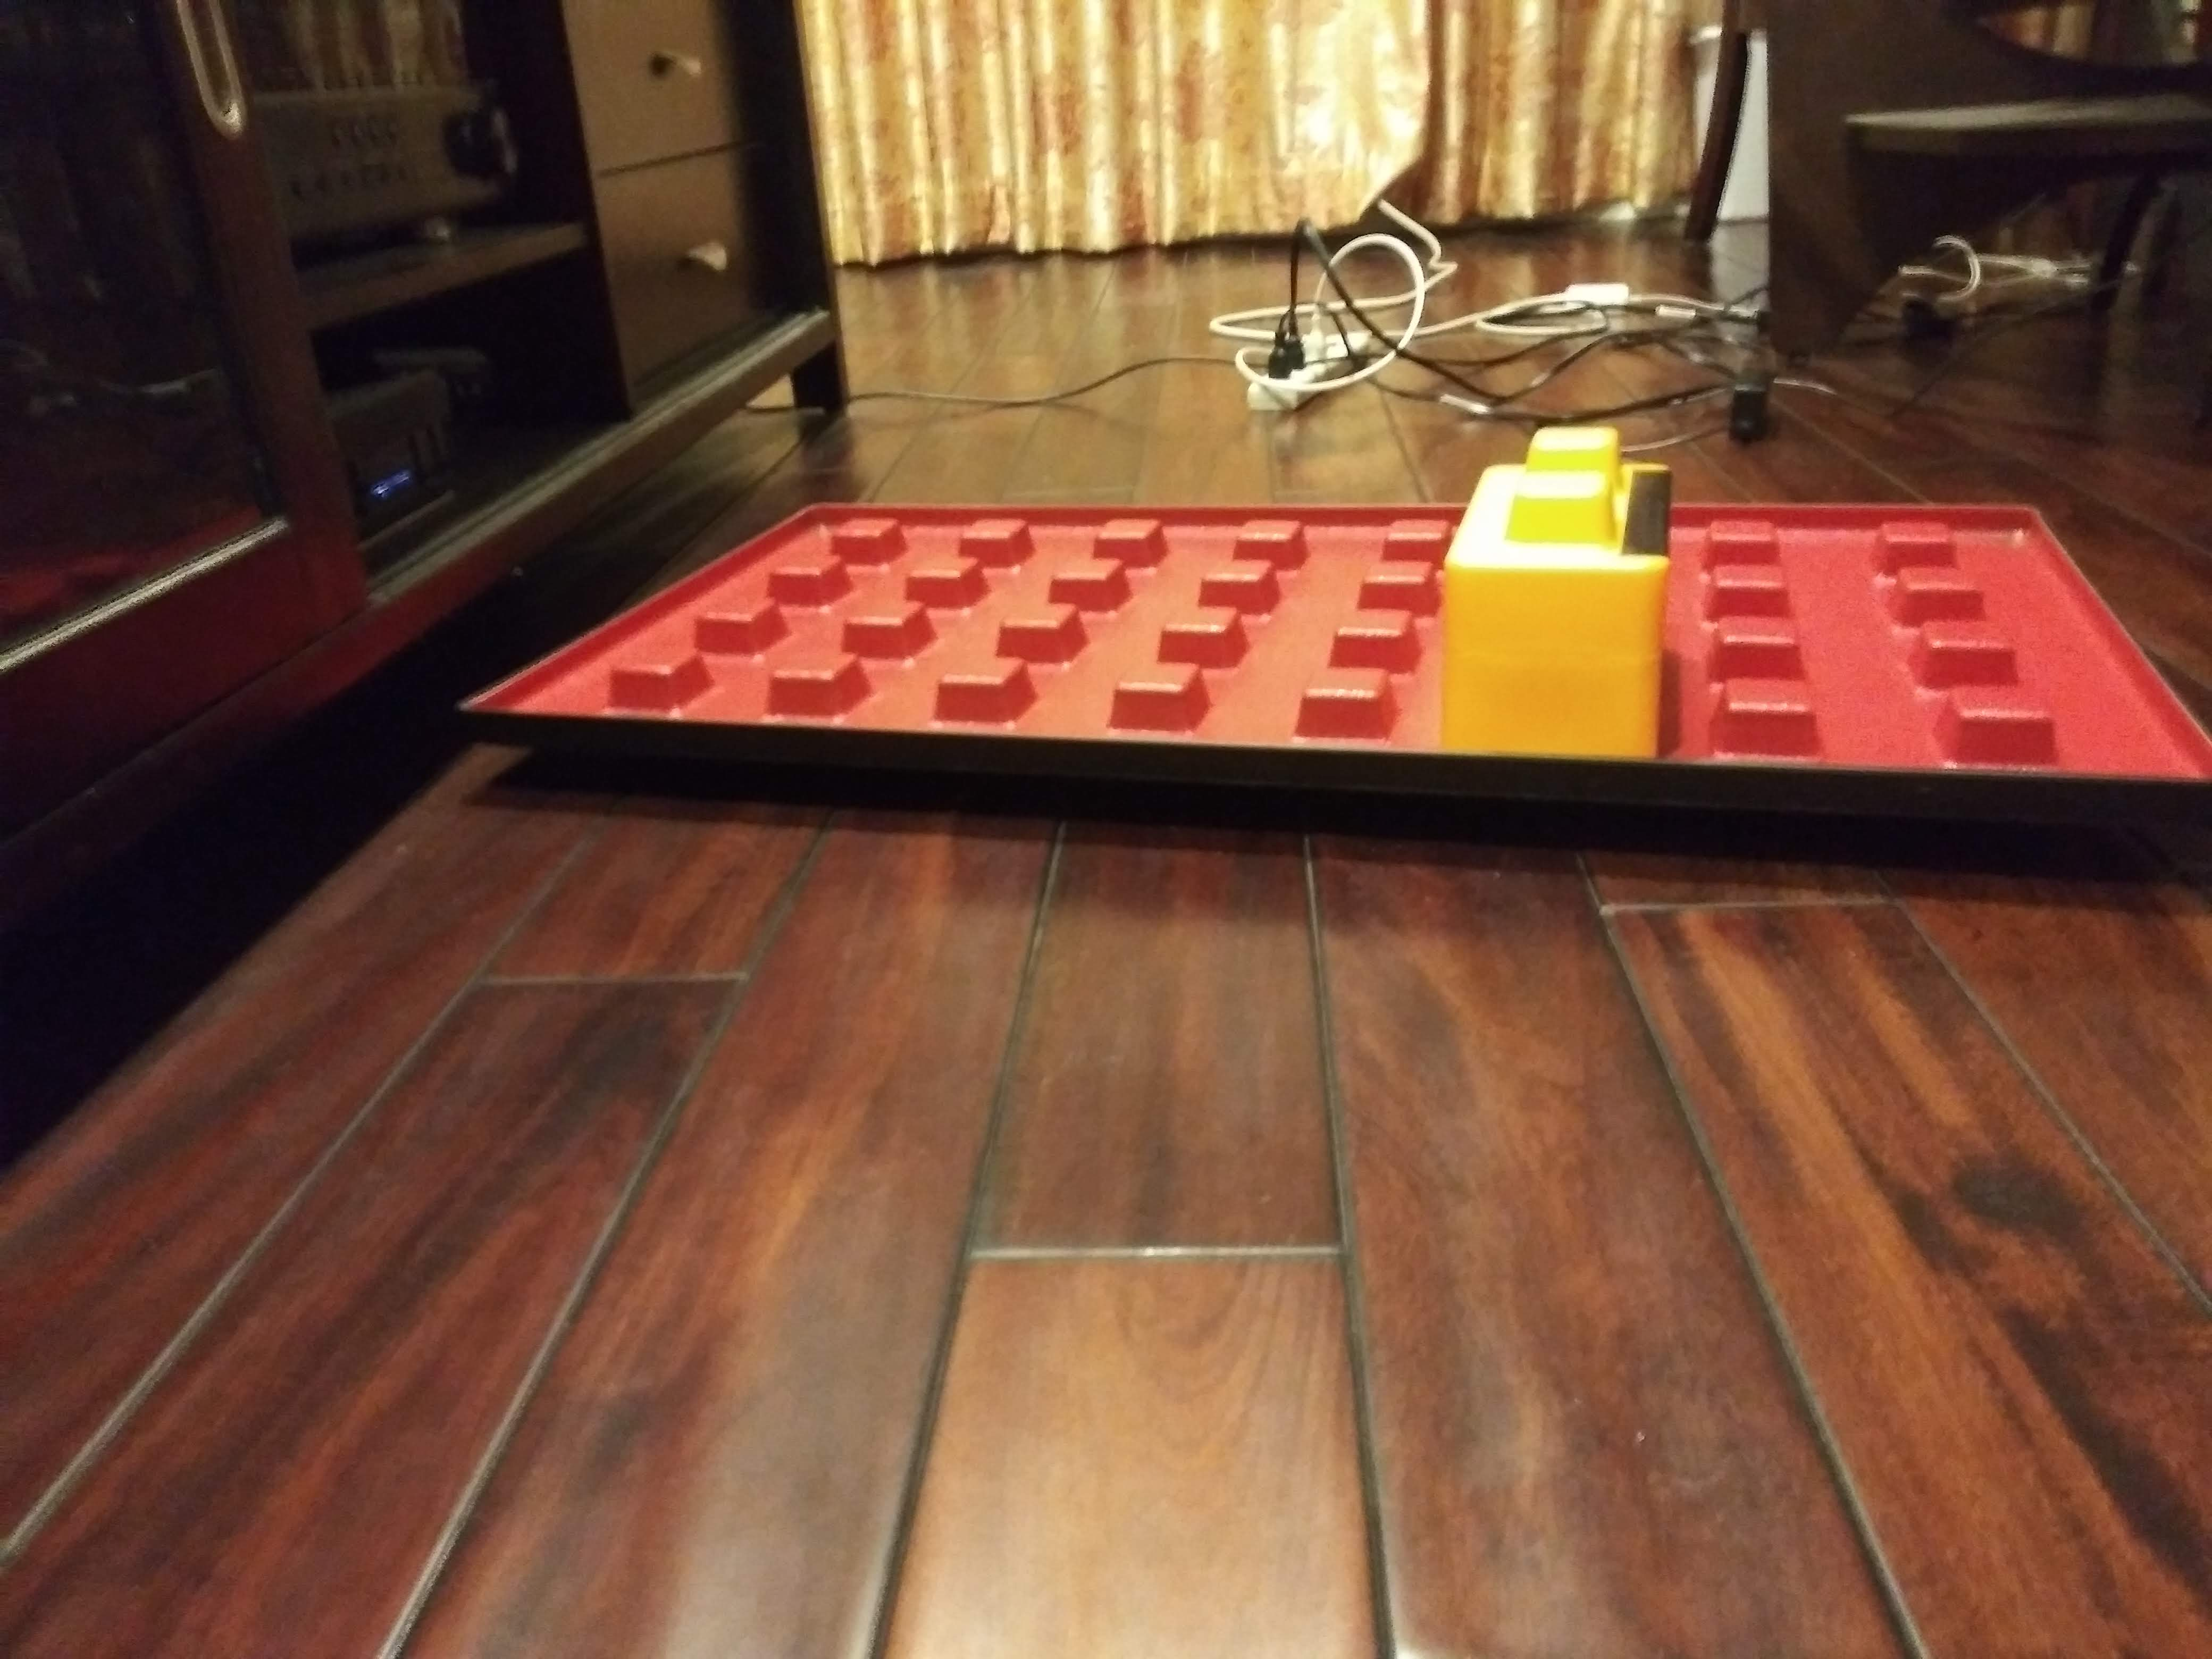red foundation: (421, 427, 2188, 843)
